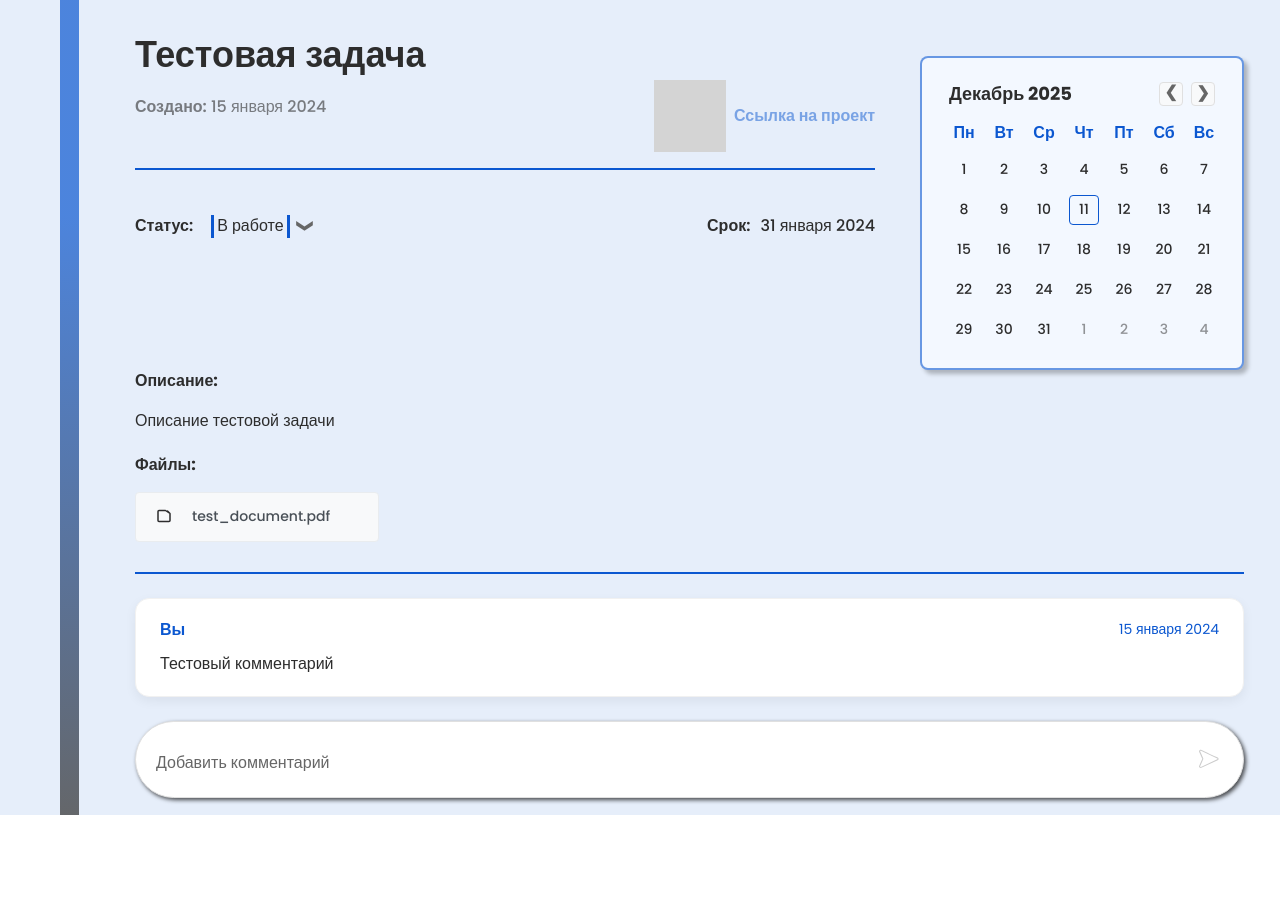
Scenario: TaskInfo Component › UI interactions › should handle status change
Click the element with test id "toggle-dropdown-btn".
click(261, 227)  # box x1=203 y1=211 x2=319 y2=242
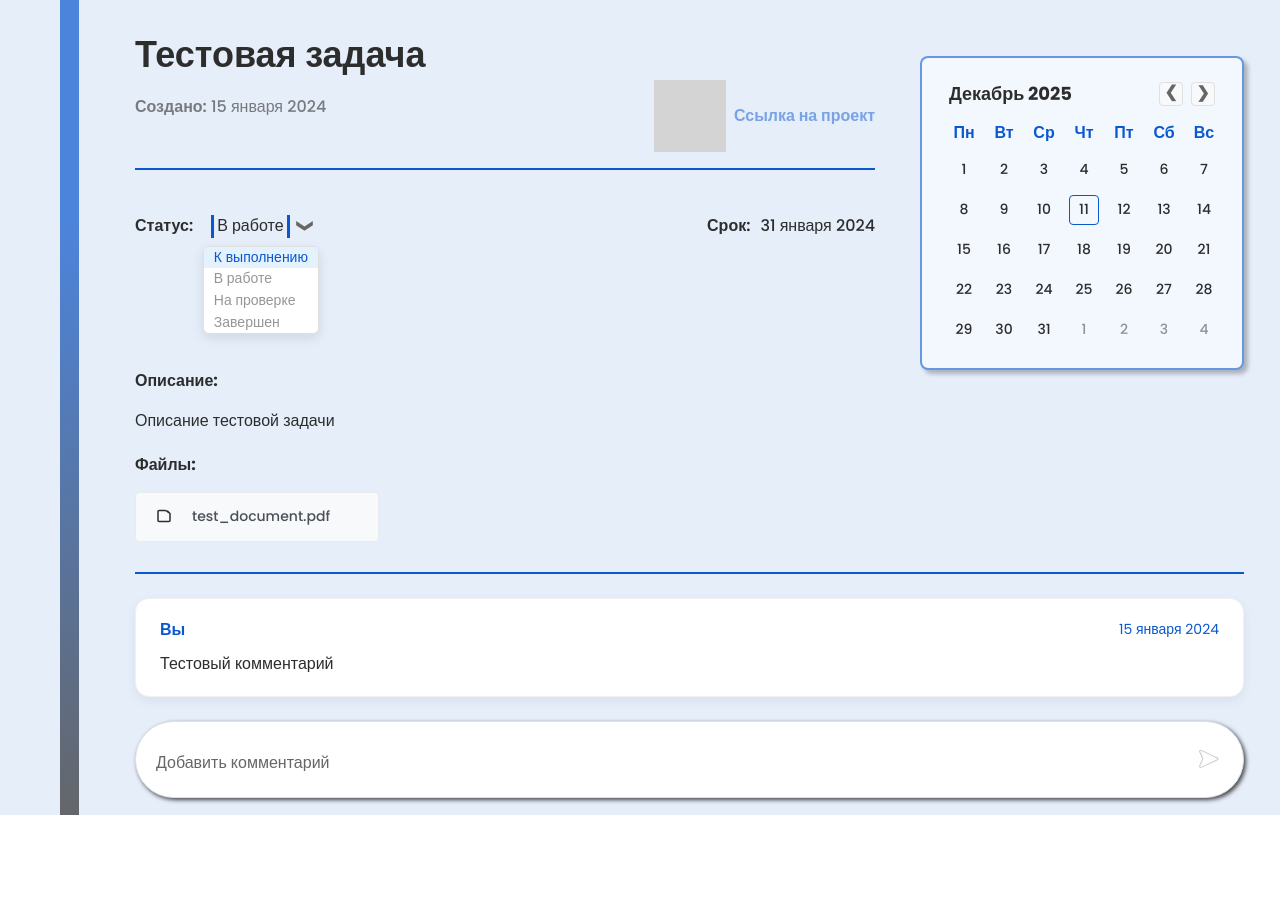
Click the text with test id "status-change-btn" showing "На проверке".
click(255, 300)  # box x1=214 y1=290 x2=295 y2=310
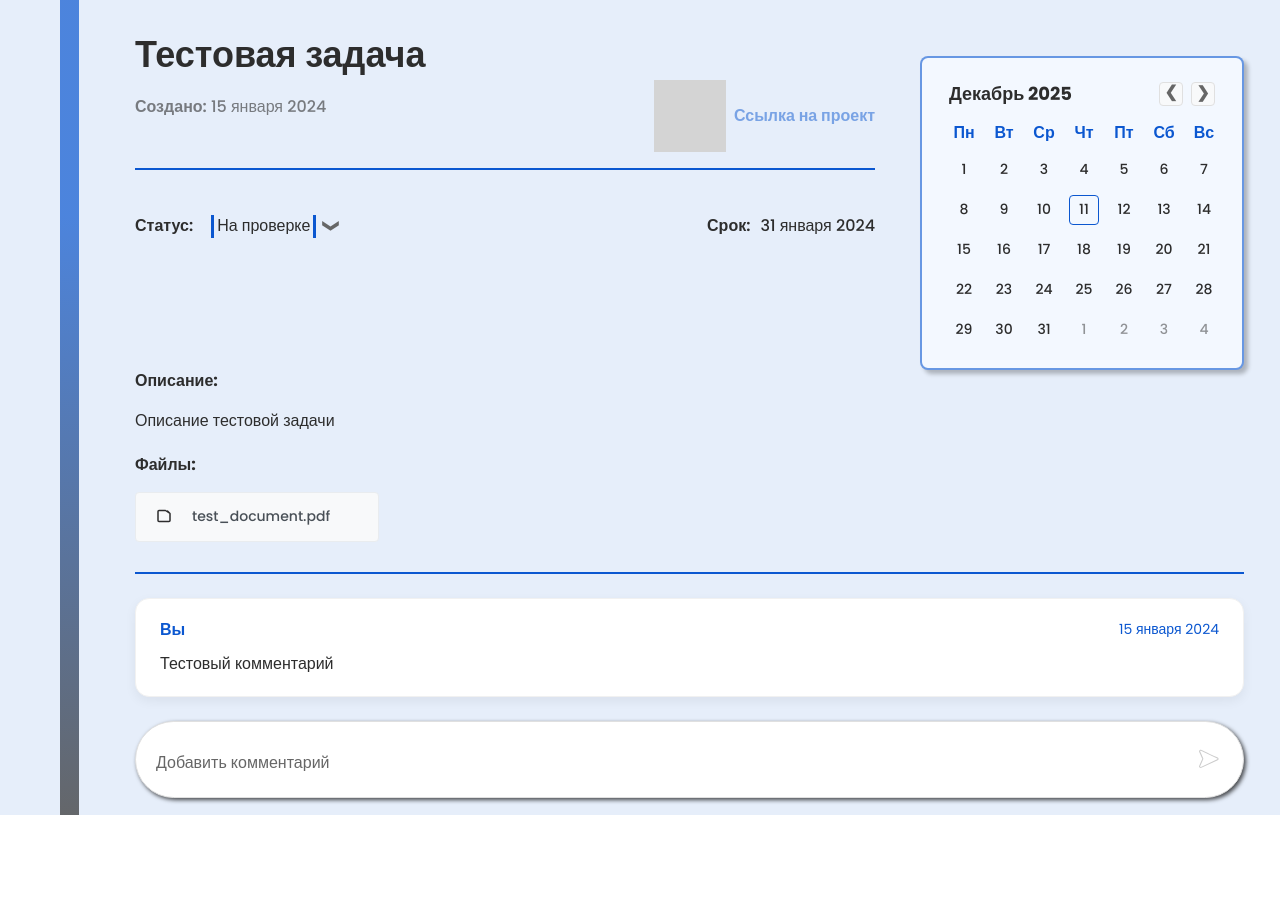
Expected: the text "К выполнению В работе На проверке Завершен" is gone
